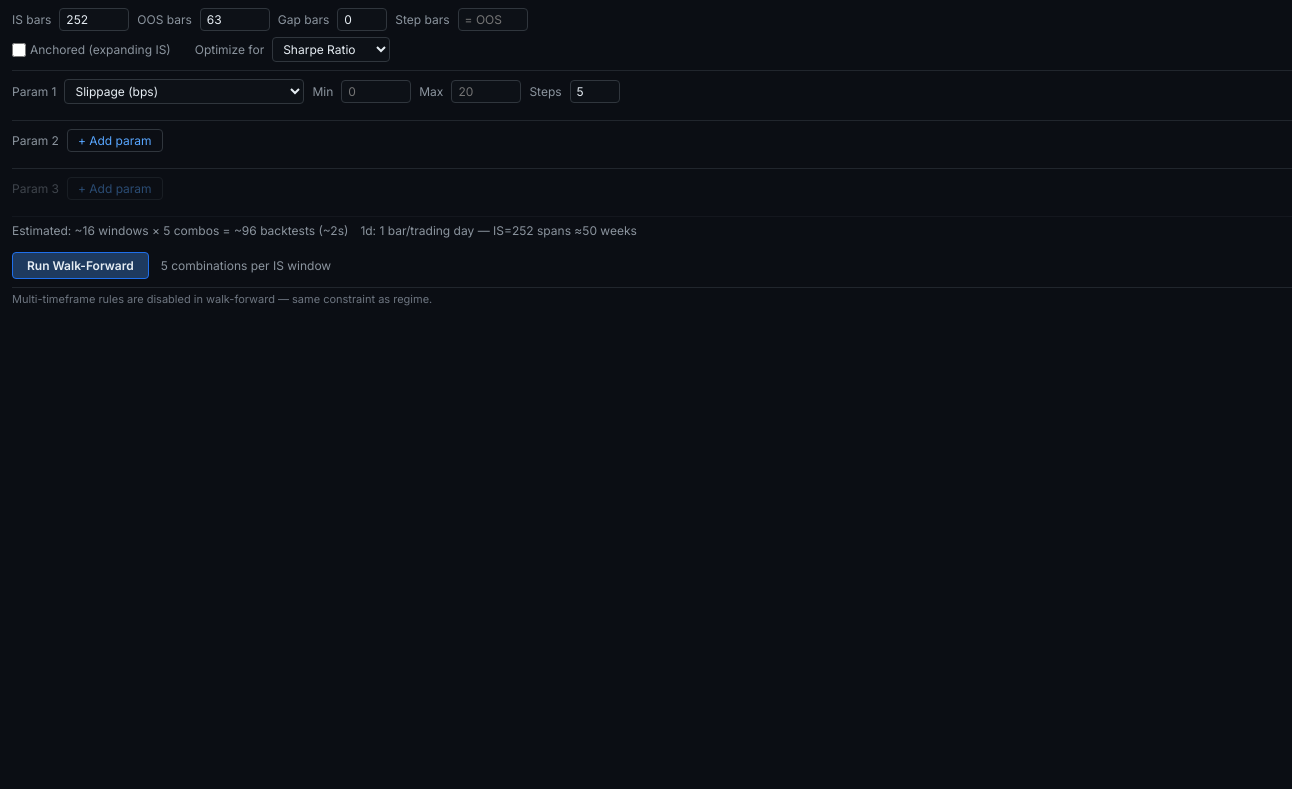
WalkForwardPanel › interpretation callout warns when wfe >= 0.7 but every window is a Spike
Click the button "Run Walk-Forward": (80, 266) [12, 252, 149, 279]
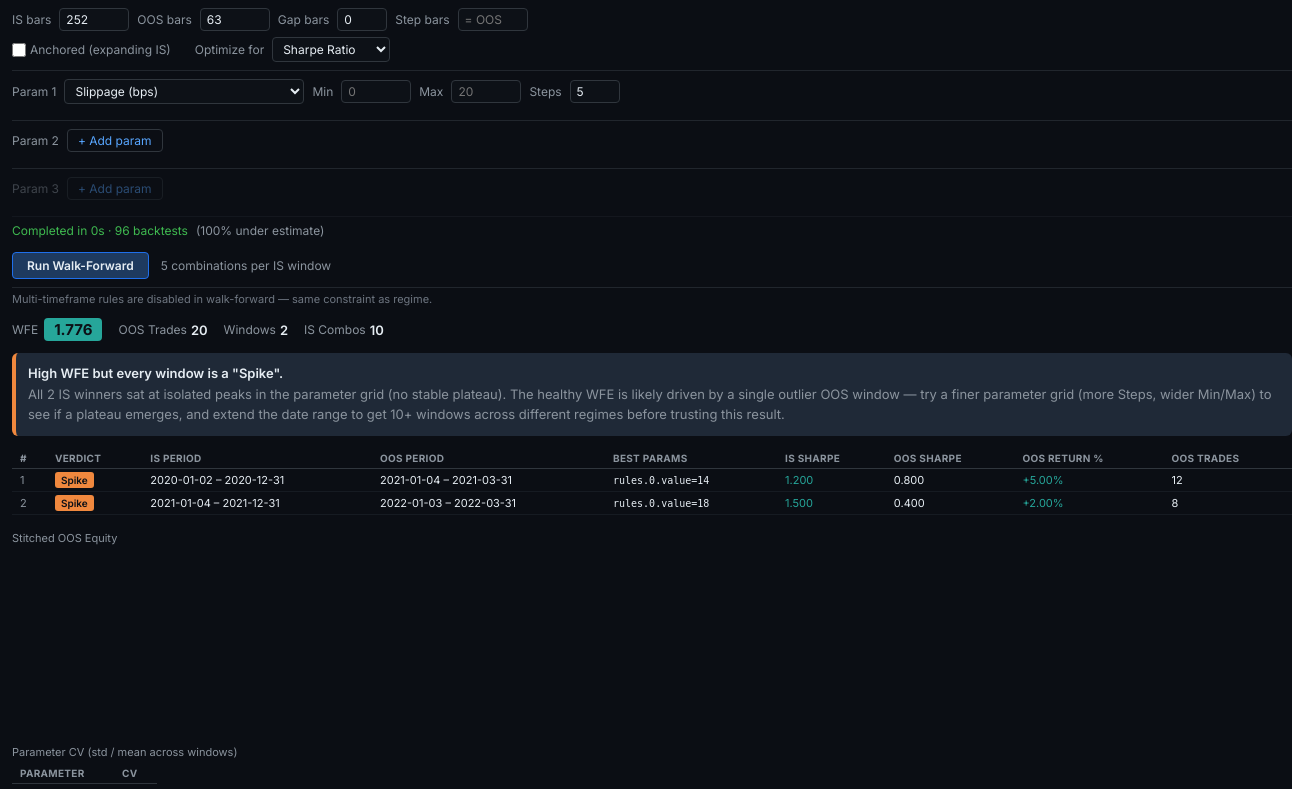
Expected: the text "WFE" is shown, [12, 322, 38, 337]
Expected: the text "High WFE but every window is a \"Spike\"." is shown, [28, 365, 283, 381]
